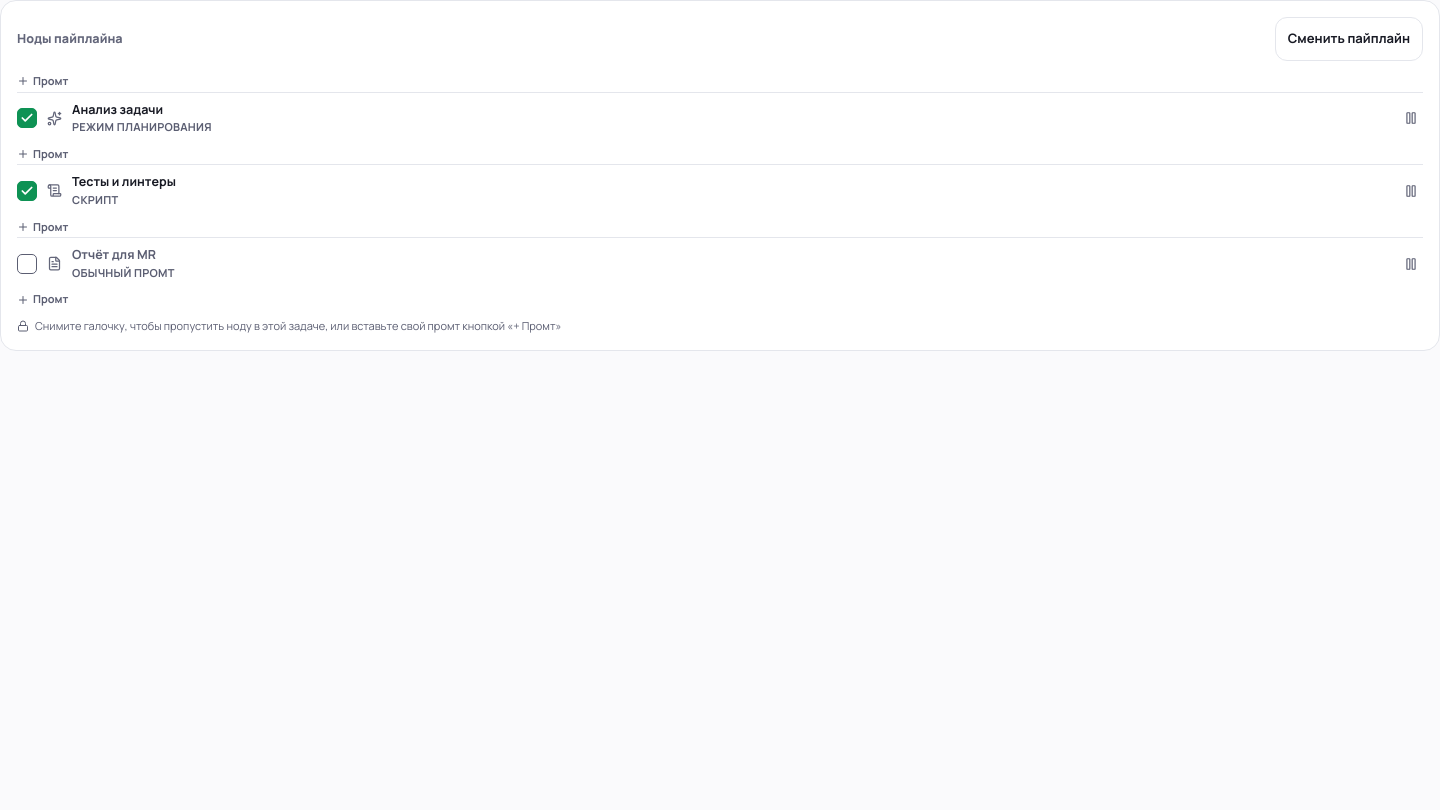
it: TaskNodesCard › свои промты › «Заполнить из библиотеки» копирует промт
What coordinates should you click on to do the following:
click the 2nd button "Промт"
I would click on:
 (43, 154)
Its box is left=17, top=144, right=68, bottom=164.
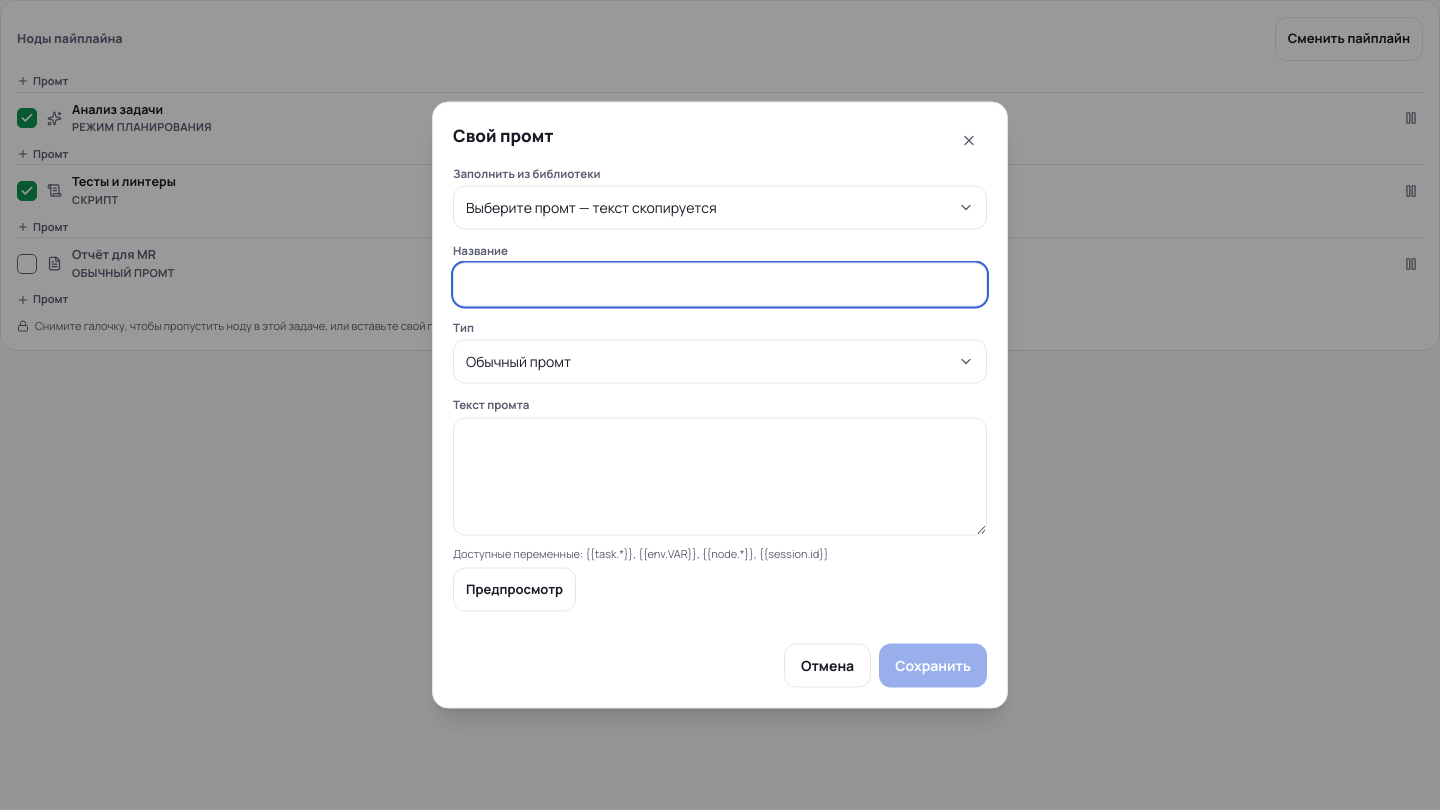
What coordinates should you click on to do the following:
click the dropdown named "Заполнить из библиотеки"
I would click on:
 (591, 207)
Its box is left=453, top=185, right=987, bottom=229.
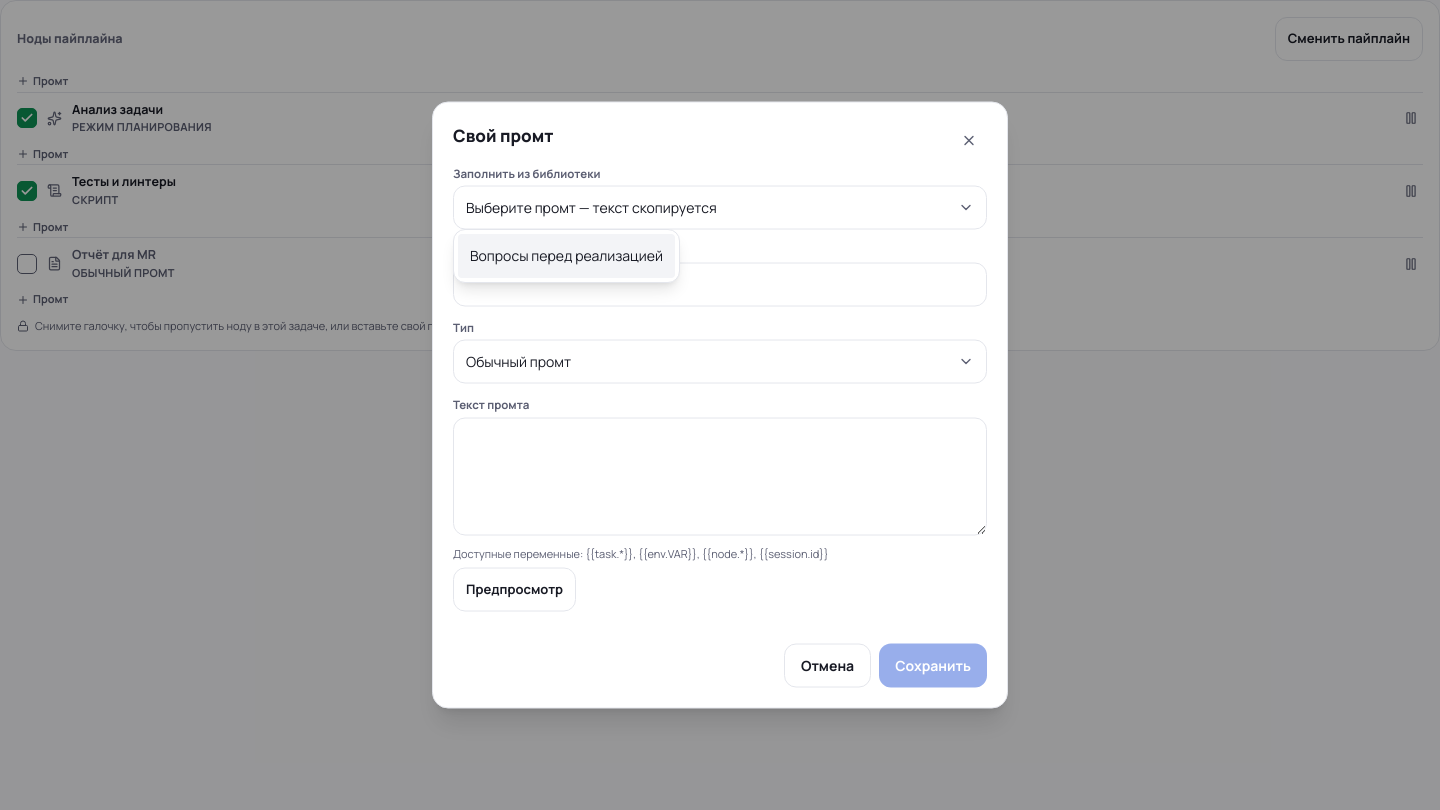
Expected: the options read "Вопросы перед реализацией", in this order
What coordinates should you click on to do the following:
click the option "Вопросы перед реализацией"
I would click on:
 (566, 256)
Its box is left=458, top=234, right=675, bottom=278.
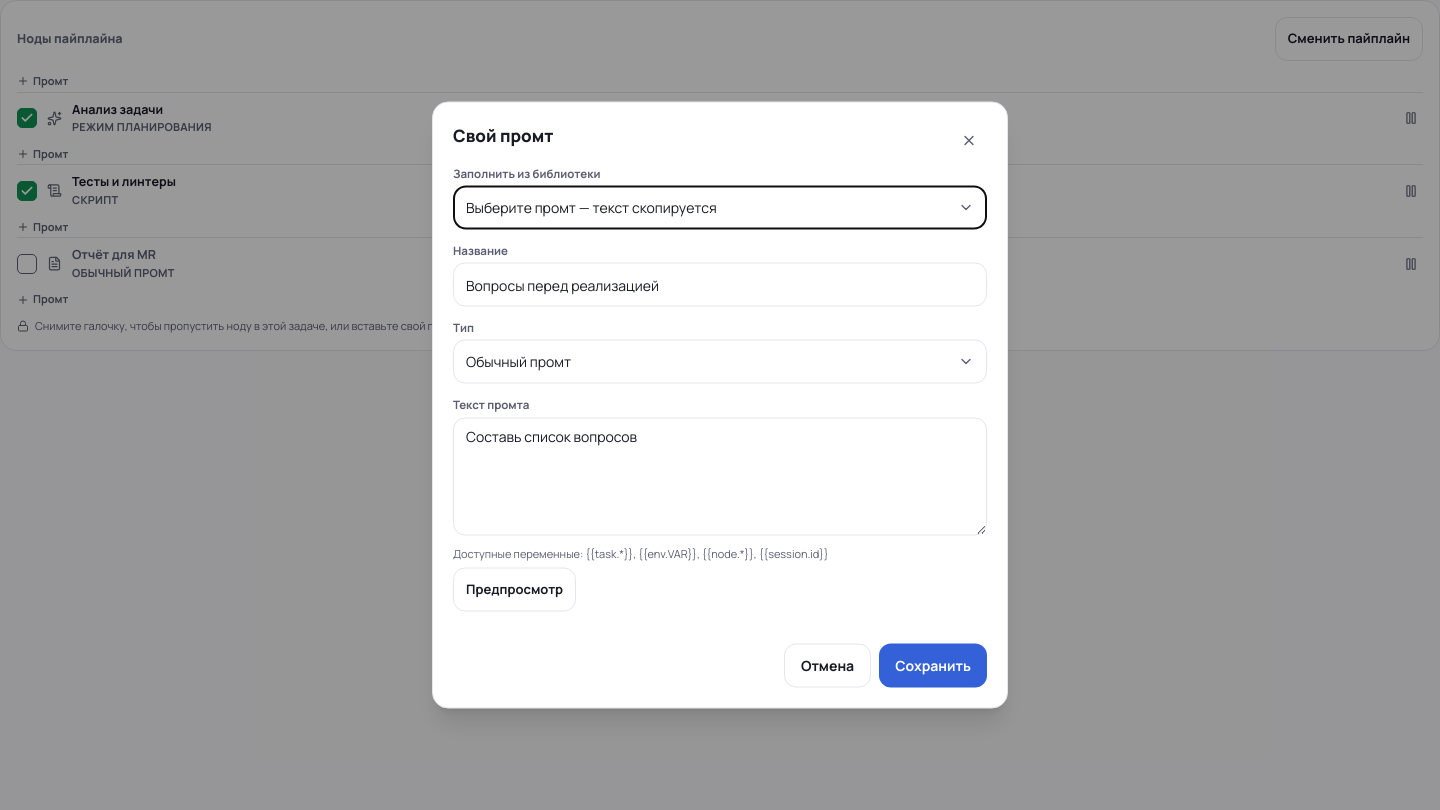
Expected: the field labelled "Название" holds "Вопросы перед реализацией", left=453, top=262, right=987, bottom=306
Expected: the text box labelled "Текст промта" holds "Составь список вопросов", left=453, top=417, right=987, bottom=535
